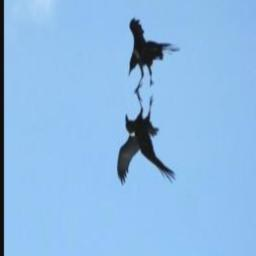Crow: (116, 87, 178, 187)
